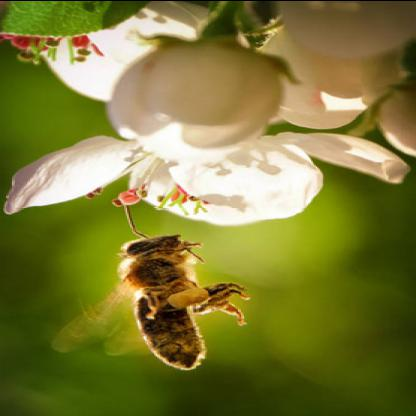other: (54, 221, 247, 374)
